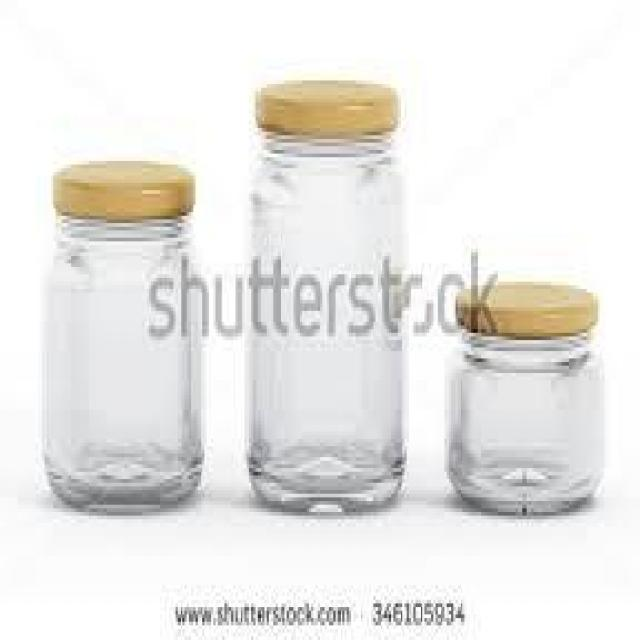non-organic waste: (240, 77, 413, 519), (443, 278, 608, 519)
